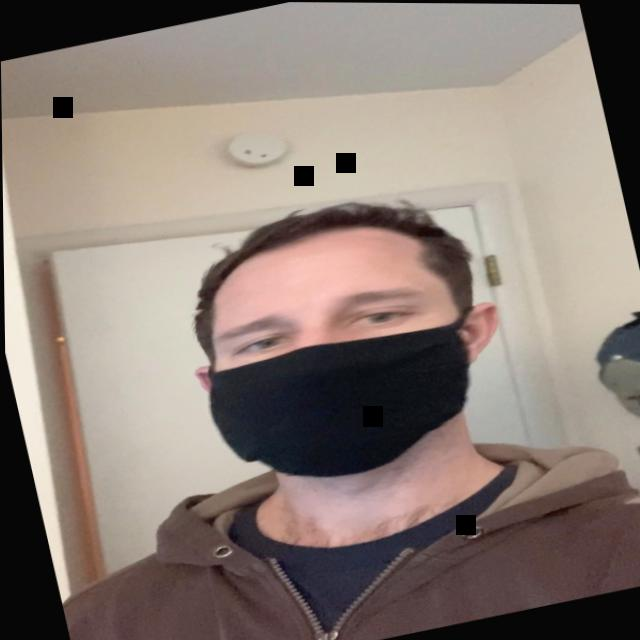Mask: (153, 177, 534, 537)
